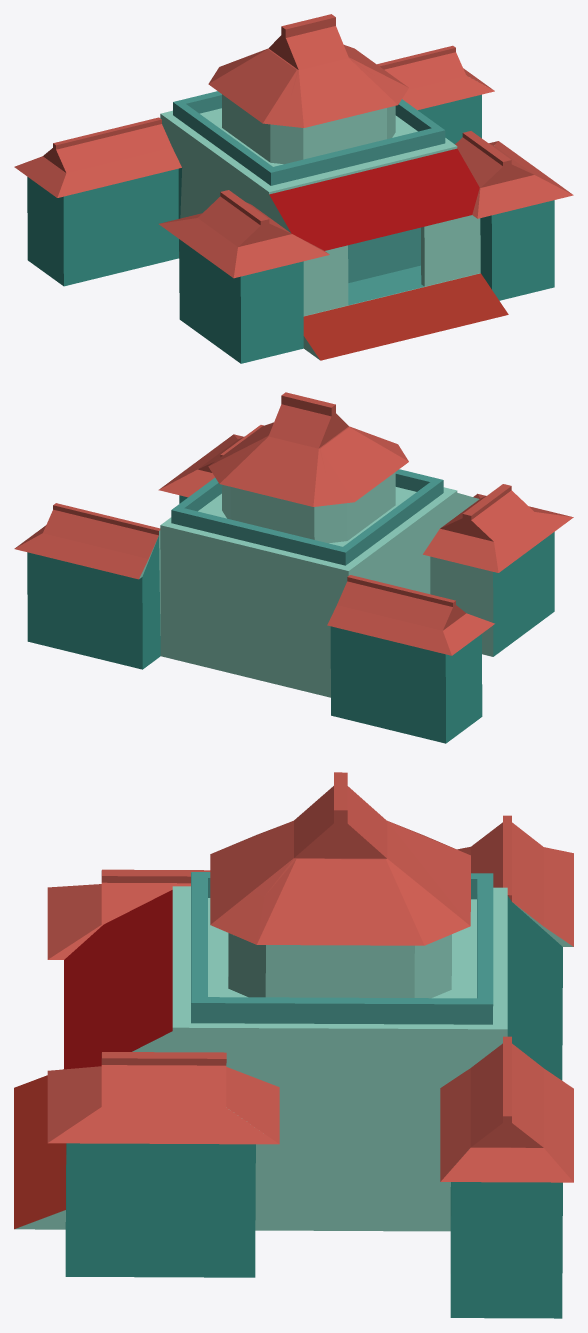
The model's file is laotu.fbx.
The picture shows the model from 3 angles, top to bottom: view 1: azimuth 30°, elevation 25°; view 2: azimuth 150°, elevation 25°; view 3: azimuth 270°, elevation 25°; orthographic projection. The views are drawn at different scales.
Visible parts, largest first — view 1: 老图最终; view 2: 老图最终; view 3: 老图最终.
Boxes of the visible parts, <box> form: 老图最终: <box>14,14,573,363</box>; 老图最终: <box>14,392,573,743</box>; 老图最终: <box>14,772,573,1318</box>.
Bounding box in the file's own units: 4232 × 2216 × 3041.
